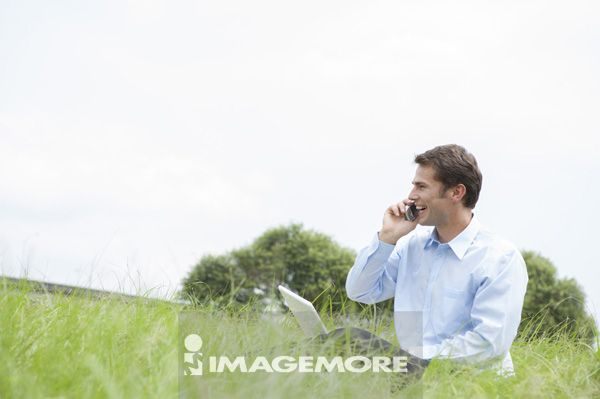talk: (381, 178, 437, 238)
